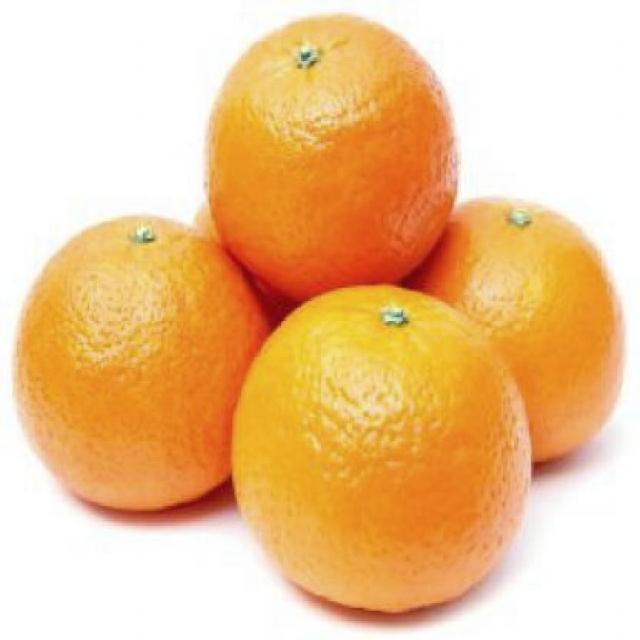Jeruk Sudah Matang: (227, 280, 536, 612), (205, 19, 458, 313), (20, 218, 268, 512), (378, 186, 627, 459)
